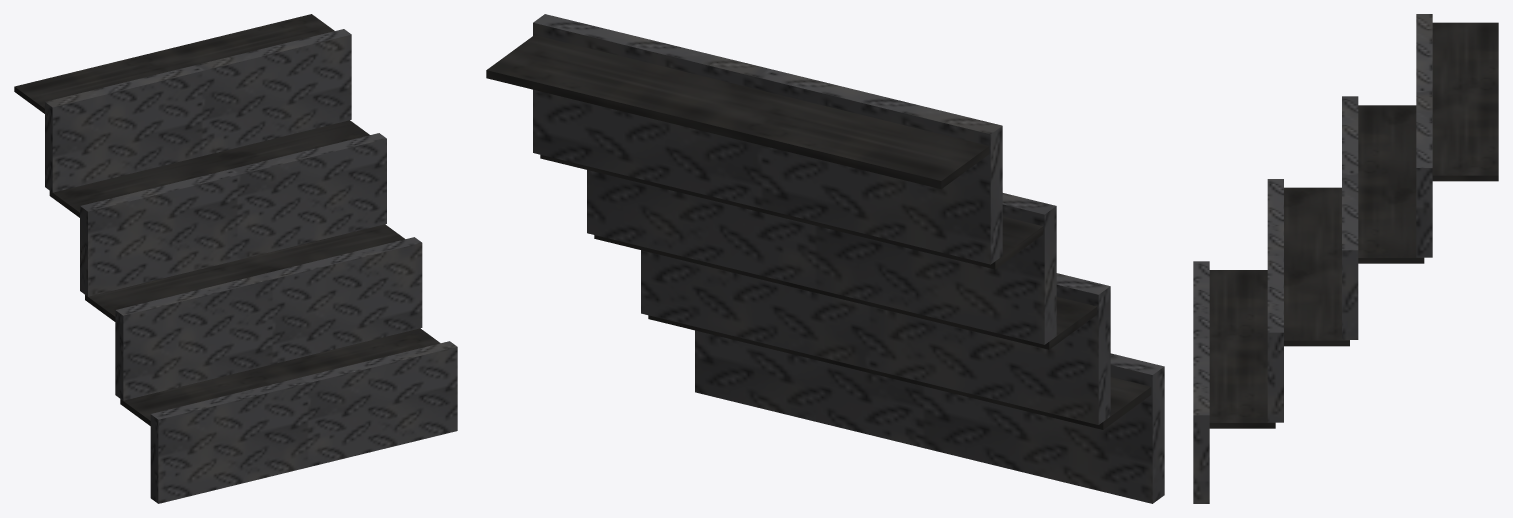
File: model-pz3d-stairs.obj
The picture shows the model from 3 angles, left to right: view 1: azimuth 30°, elevation 25°; view 2: azimuth 150°, elevation 25°; view 3: azimuth 270°, elevation 25°; orthographic projection. The views are drawn at different scales.
Size of the model in its own units: 1 by 1.02 by 0.839.
